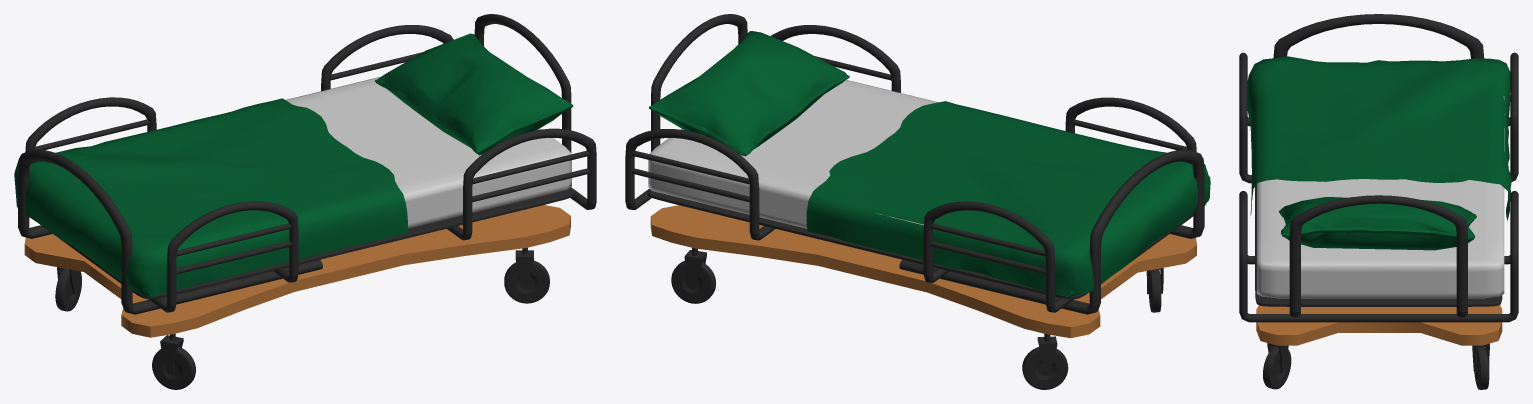
Rendered from Bed_02.FBX.
3 renders of one model, left to right at view 1: azimuth 30°, elevation 25°; view 2: azimuth 150°, elevation 25°; view 3: azimuth 270°, elevation 25°, orthographic. The views are drawn at different scales.
Visible parts, largest first — view 1: HospitalBed; view 2: HospitalBed; view 3: HospitalBed.
Part boxes in pixels (x1,y1,x2,y2): HospitalBed: (14,14,596,389); HospitalBed: (625,14,1210,389); HospitalBed: (1239,14,1518,389).
Size of the model in its own units: 169 by 79.32 by 93.65.
